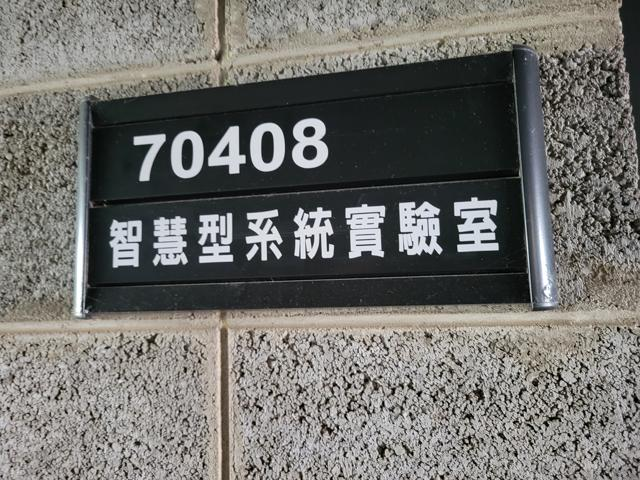doorplate: (60, 36, 566, 328)
